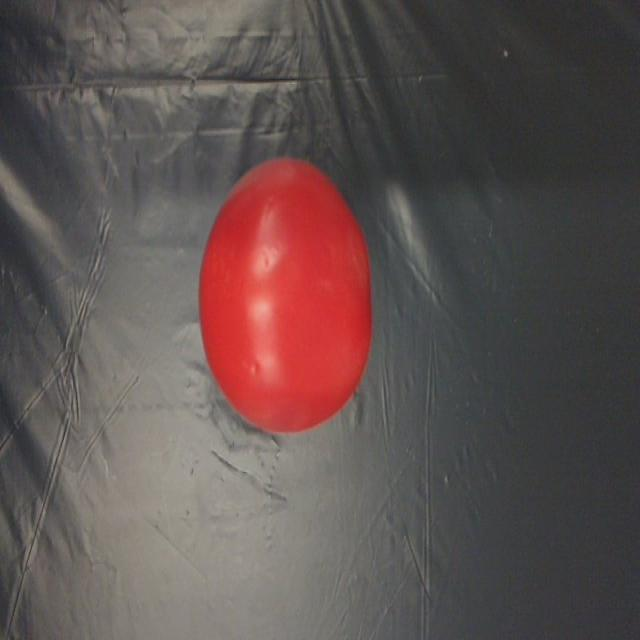kirmizi: (187, 149, 376, 438)
